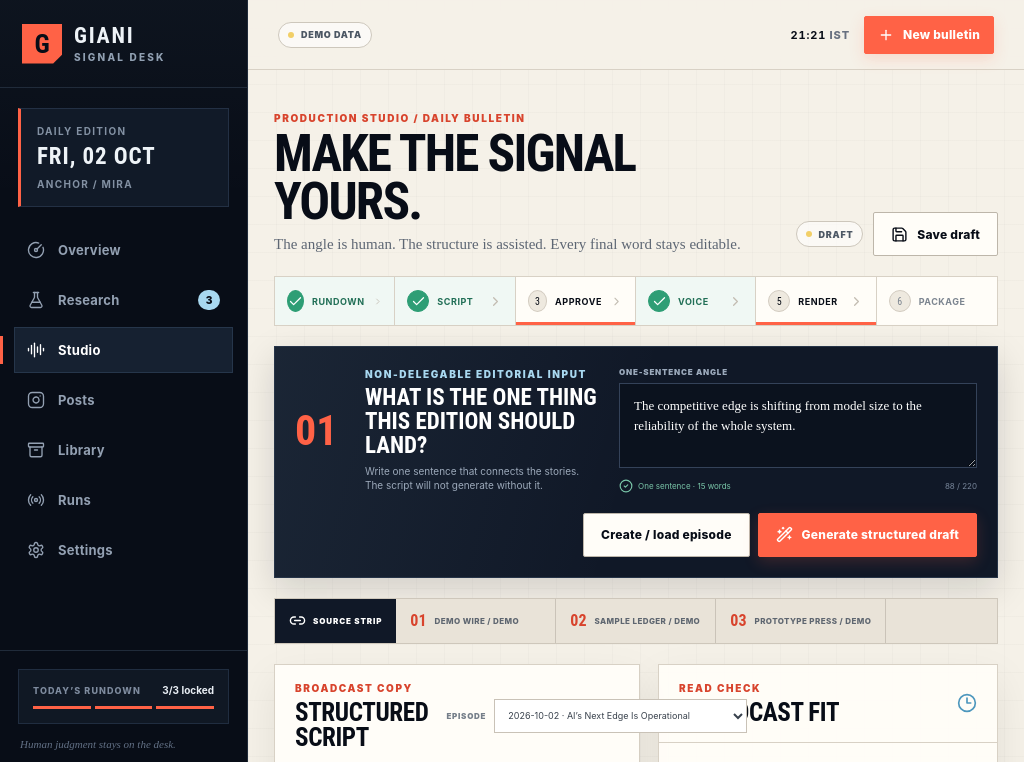
Signal Desk smoke routes › blocks script generation when the human angle is empty
Clear the text box labelled "One-sentence angle" at (798, 426), box 619,384 -> 977,468
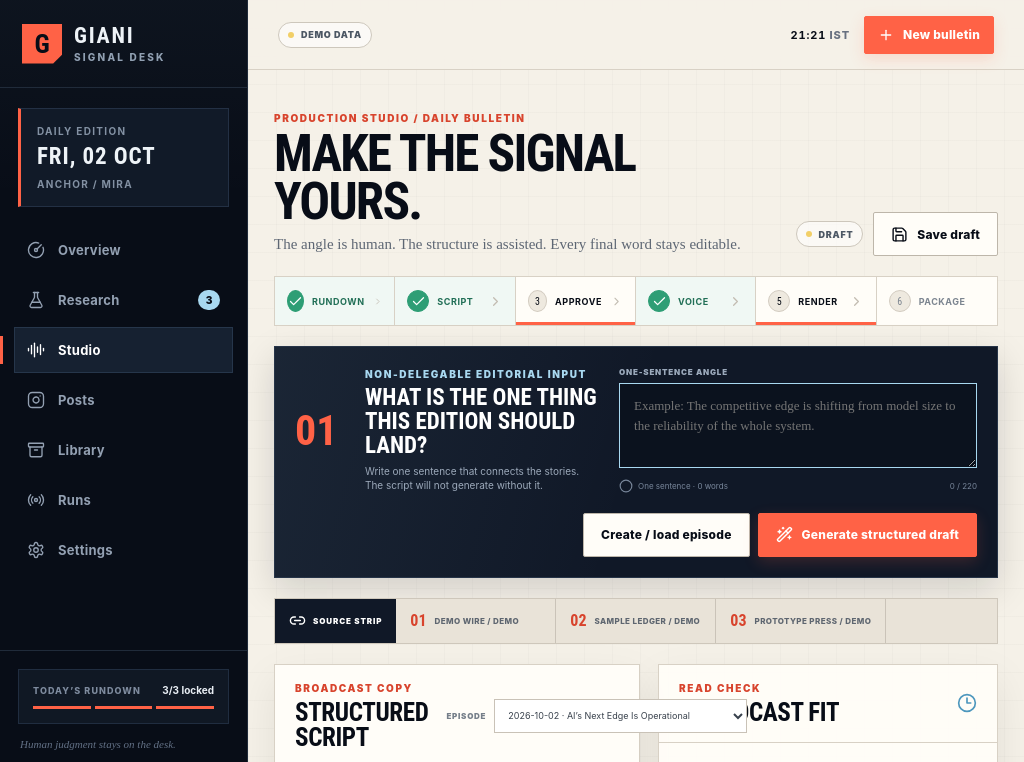
Click the button "Generate structured draft" at (867, 535), box 758,513 -> 977,557
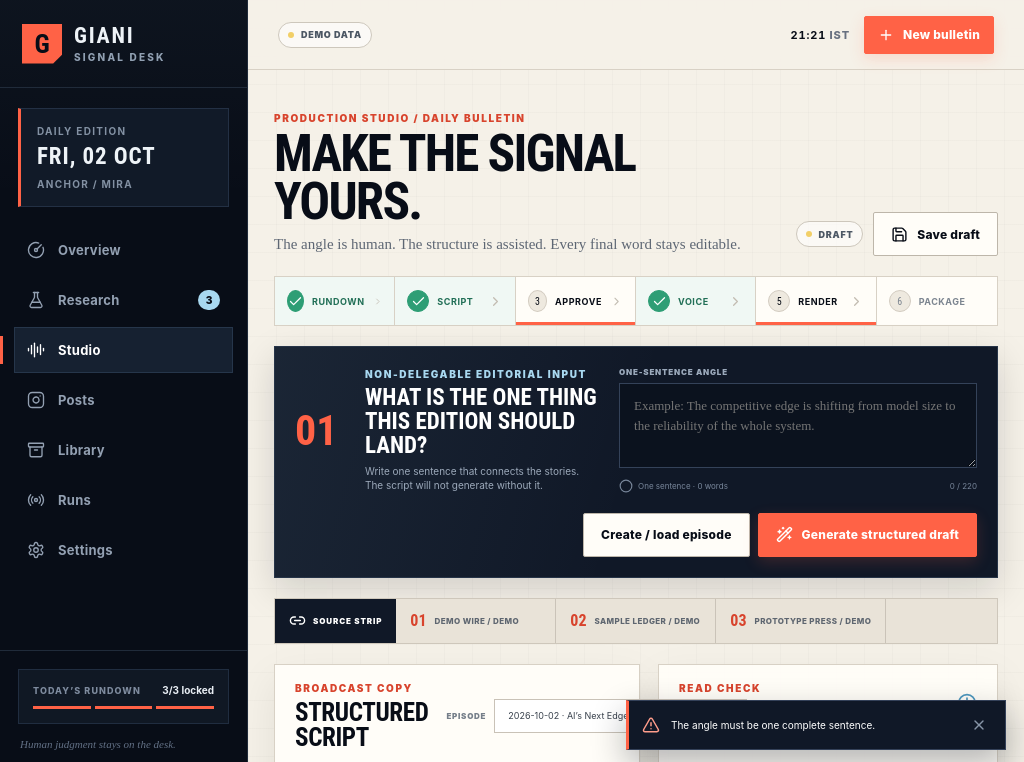
Expected: the text "The angle must be one complete sentence." is shown, 671,719 -> 875,731
